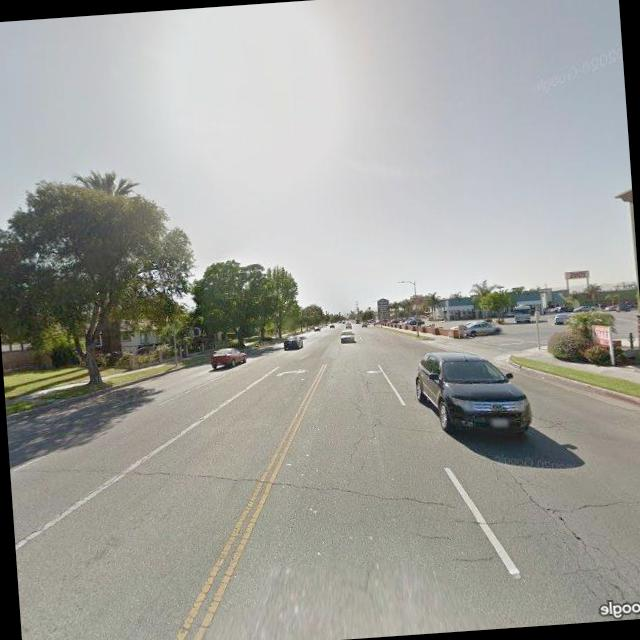crack: (488, 452, 640, 615), (272, 466, 462, 522), (127, 453, 276, 492), (337, 372, 395, 468), (552, 483, 640, 516)
